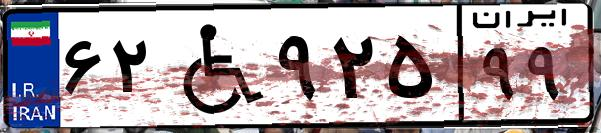2: (330, 28, 385, 110), (110, 28, 158, 98)
5: (385, 28, 445, 110)
6: (57, 26, 110, 100)
9: (270, 28, 330, 110), (475, 38, 525, 113), (525, 38, 570, 115)
ژ (معلولین و جانبازان): (158, 12, 270, 120)
